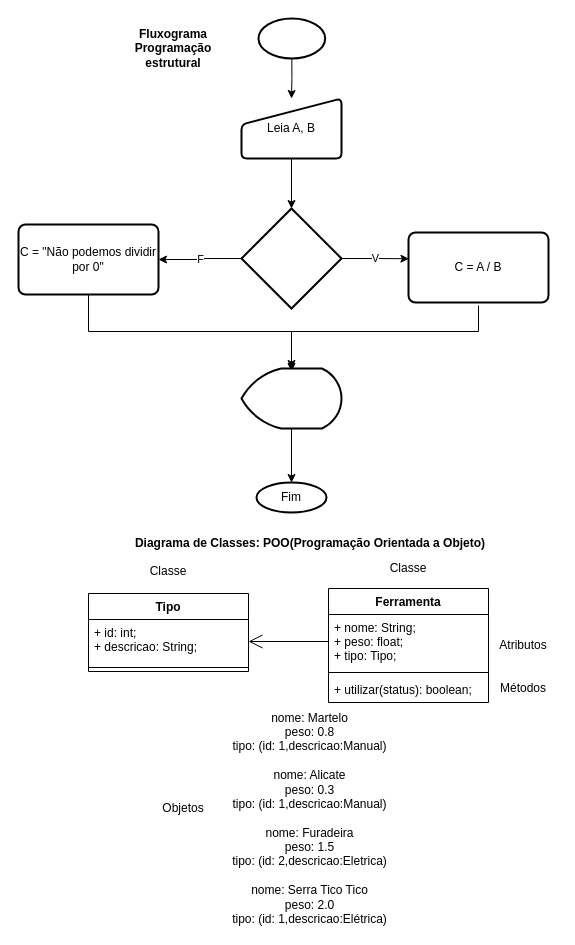
Image size: 575x945. Some labels were removed from this diagram. Here are the shapes that lost their labels. From the top down, the centre of each, then its label:
the point at 291,38: Inicio
the point at 291,258: Se B != 0
the point at 291,398: Escreva C
